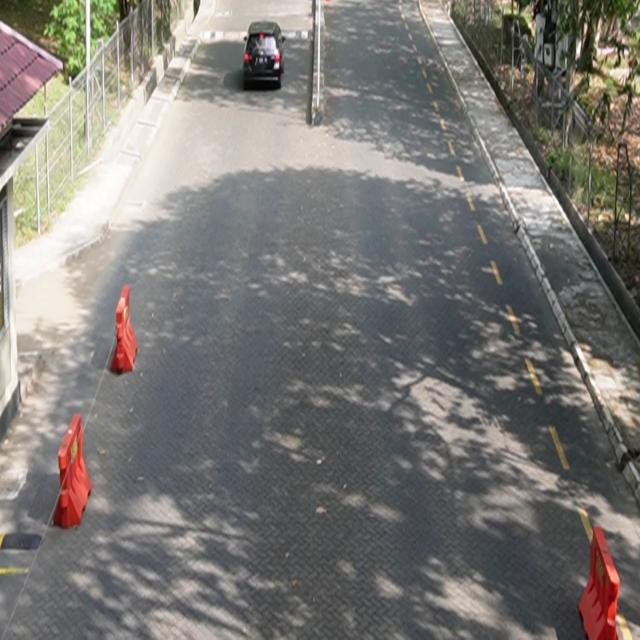car: (243, 21, 286, 91)
